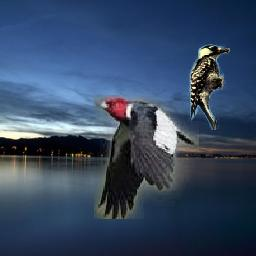Woodpecker: (95, 95, 200, 219), (188, 44, 231, 130)
